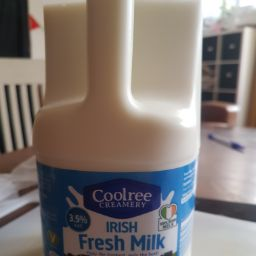Regular milk: (41, 5, 208, 243), (44, 140, 189, 256), (77, 232, 172, 256), (128, 235, 176, 256)
